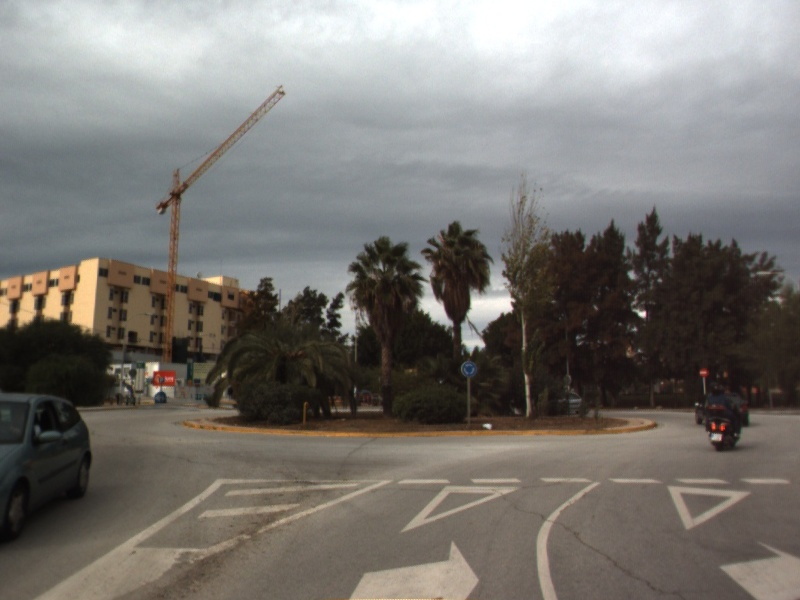RIGHT: (345, 536, 483, 600), (717, 538, 800, 599)
